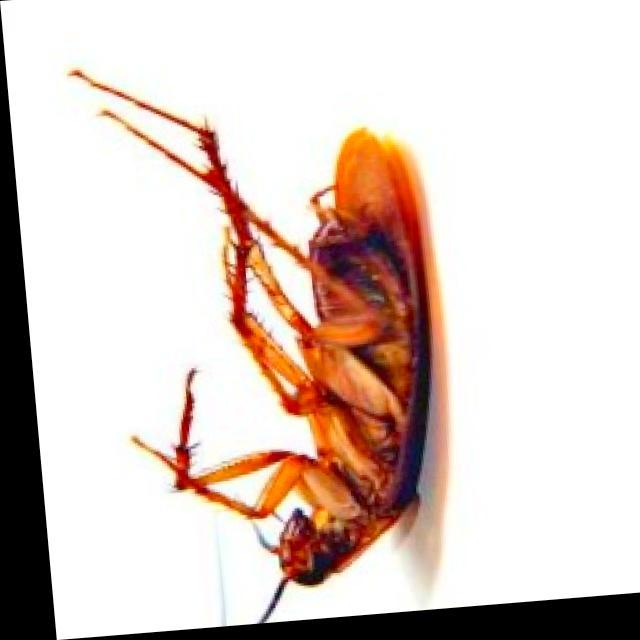cockroach: (62, 63, 453, 624)
